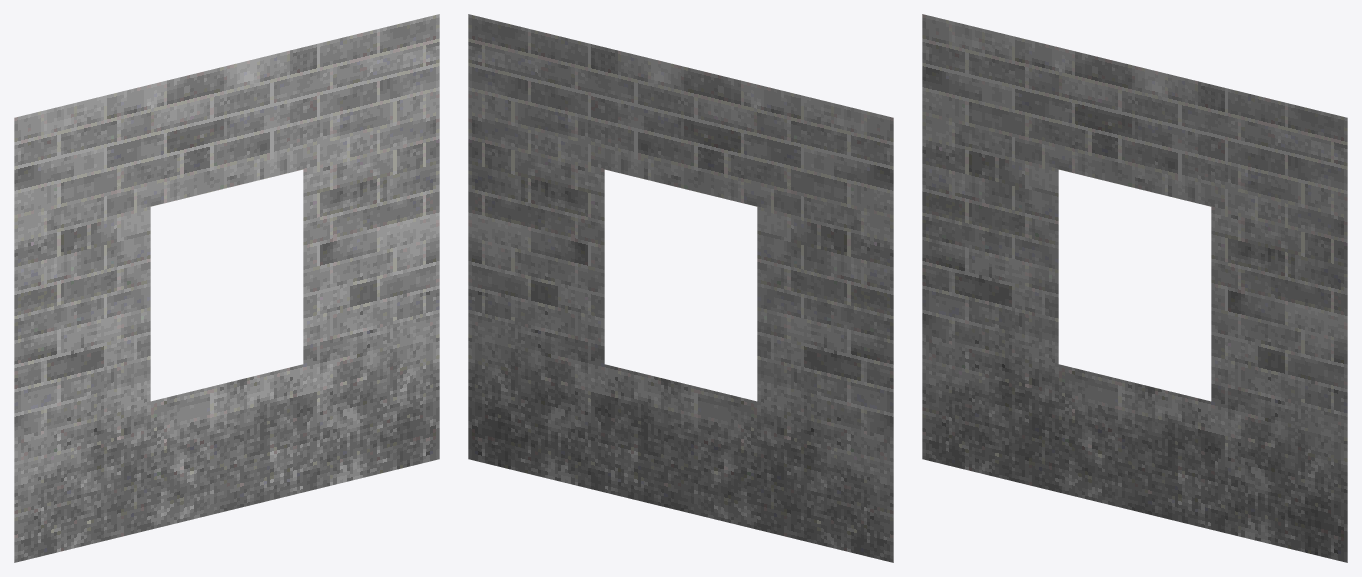
Rendered from wallWindowBrick.glb.
The picture shows the model from 3 angles, left to right: view 1: azimuth 30°, elevation 25°; view 2: azimuth 150°, elevation 25°; view 3: azimuth 330°, elevation 25°; orthographic projection.
Parts seen in each view (by area): view 1: wallWindowBrick; view 2: wallWindowBrick; view 3: wallWindowBrick.
Boxes of the visible parts, box(x1,y1,x2,y2) form: wallWindowBrick: box(14, 14, 439, 562); wallWindowBrick: box(468, 14, 893, 562); wallWindowBrick: box(922, 14, 1347, 562).
Bounding box in the file's own units: 4 × 4 × 1.19e-07.
1 material, 1 textured.
